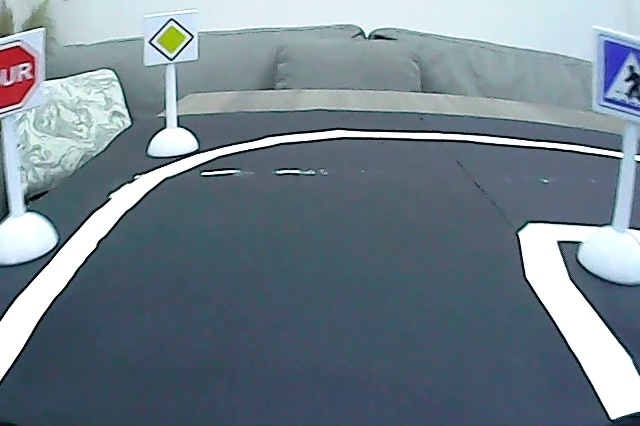pedestrian crossing: (595, 34, 640, 118)
